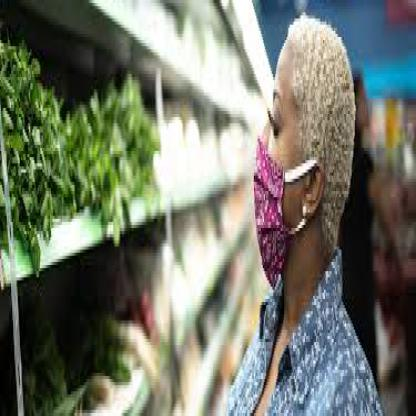Wearing_Mask: (251, 34, 317, 302)
